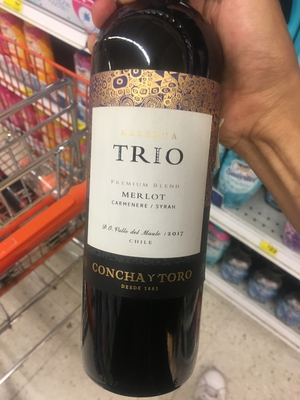trio merlot: (69, 11, 225, 383)
